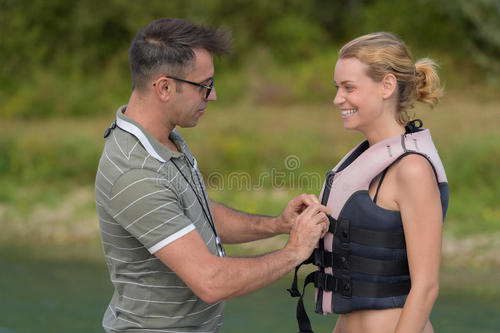other_clothes: (92, 98, 234, 330)
reflective_clothes: (311, 112, 452, 324)
